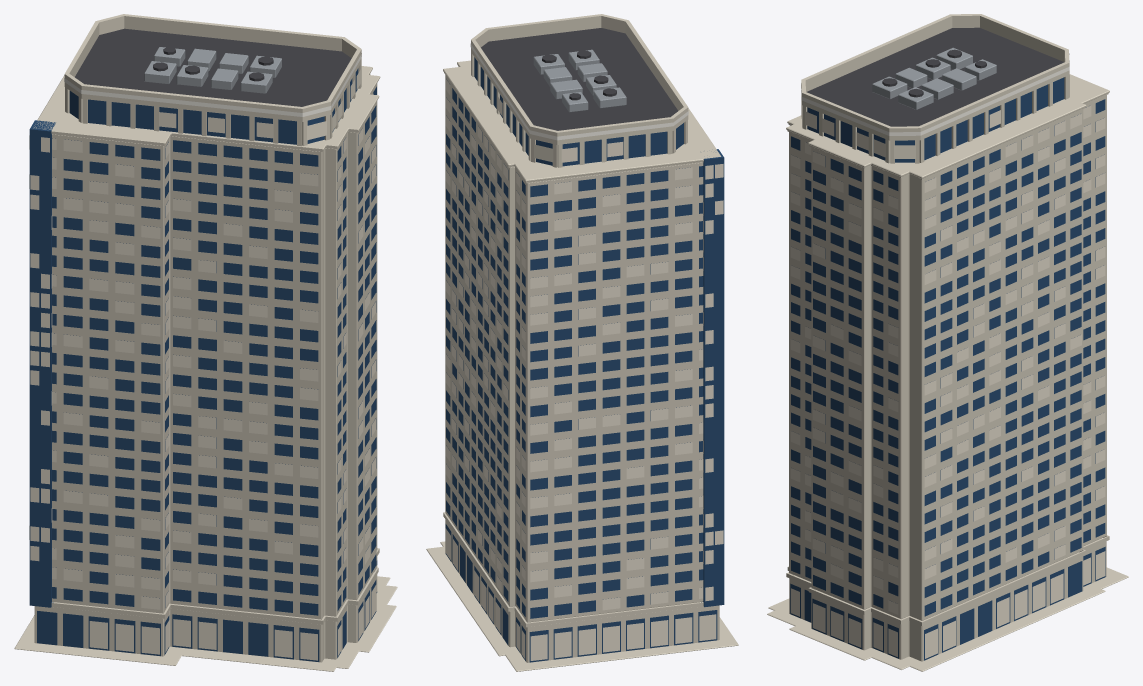
The model's file is 199-fremont-street.glb.
The picture shows the model from 3 angles, left to right: view 1: azimuth 30°, elevation 25°; view 2: azimuth 150°, elevation 25°; view 3: azimuth 270°, elevation 25°; orthographic projection. The views are drawn at different scales.
Parts seen in each view (by area): view 1: 199-fremont-street_body, 199-fremont-street_night_glow; view 2: 199-fremont-street_body, 199-fremont-street_night_glow; view 3: 199-fremont-street_body, 199-fremont-street_night_glow.
Boxes of the visible parts, bbox=[...] form: 199-fremont-street_body: bbox=[14, 14, 397, 671]; 199-fremont-street_night_glow: bbox=[29, 53, 377, 660]; 199-fremont-street_body: bbox=[426, 14, 738, 671]; 199-fremont-street_night_glow: bbox=[445, 43, 723, 660]; 199-fremont-street_body: bbox=[767, 14, 1128, 671]; 199-fremont-street_night_glow: bbox=[790, 53, 1105, 658].
Size of the model in its own units: 74.23 by 111 by 69.6.
